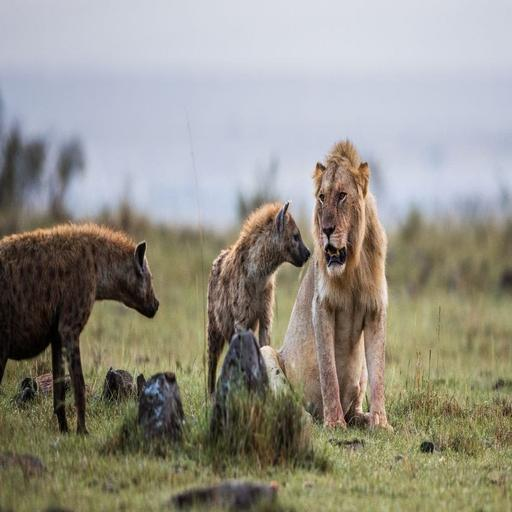Hyena: (0, 197, 160, 443), (185, 190, 309, 425)
Lion: (250, 130, 403, 442)
